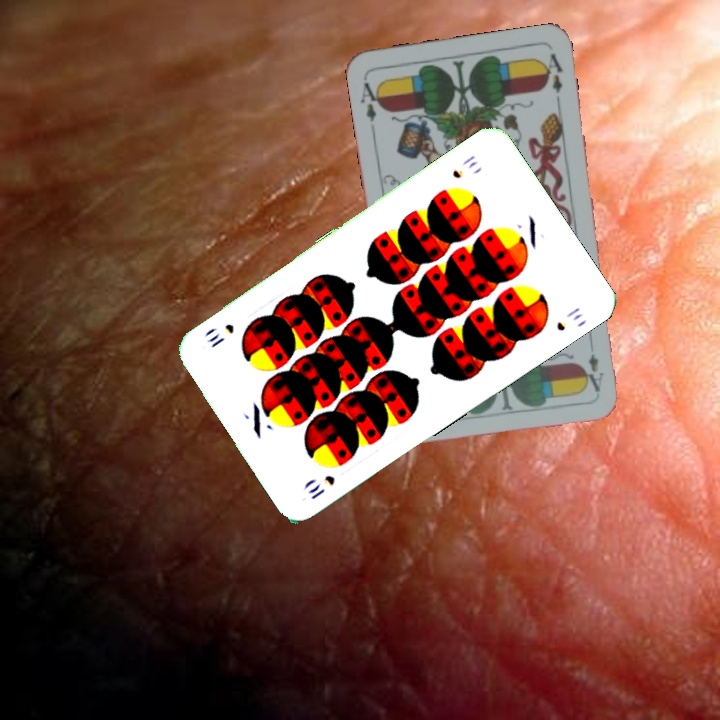EA: (356, 74, 385, 124), (583, 349, 606, 395)
S10: (304, 470, 338, 503), (448, 150, 480, 182)
